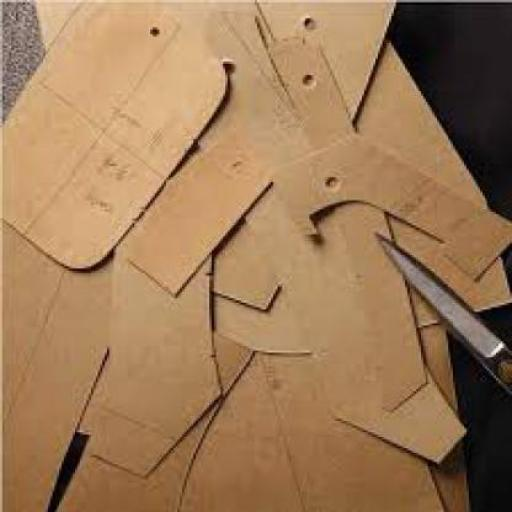cardboard: (266, 32, 466, 462), (0, 0, 225, 268), (36, 0, 394, 126), (353, 36, 510, 323), (268, 132, 510, 282), (88, 194, 216, 476), (0, 216, 107, 510), (262, 350, 446, 510), (123, 128, 268, 294), (175, 348, 307, 510), (55, 355, 186, 510), (416, 316, 469, 510), (211, 196, 280, 309)
glass: (370, 230, 501, 357)
